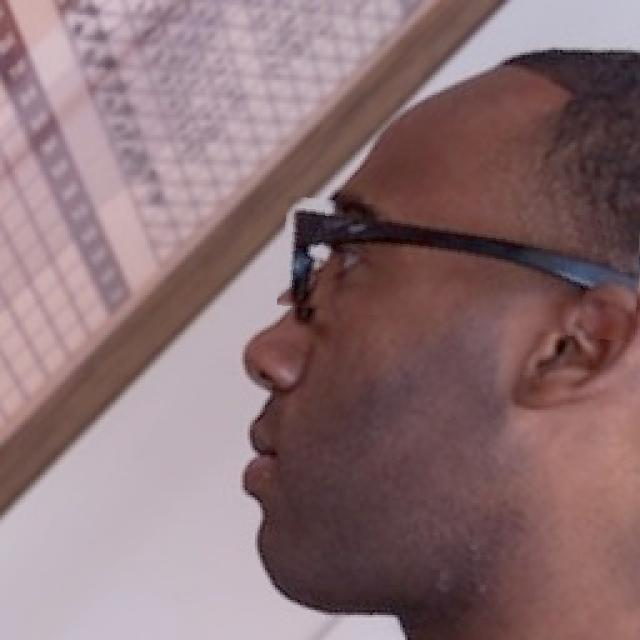glasses: (279, 204, 640, 333)
